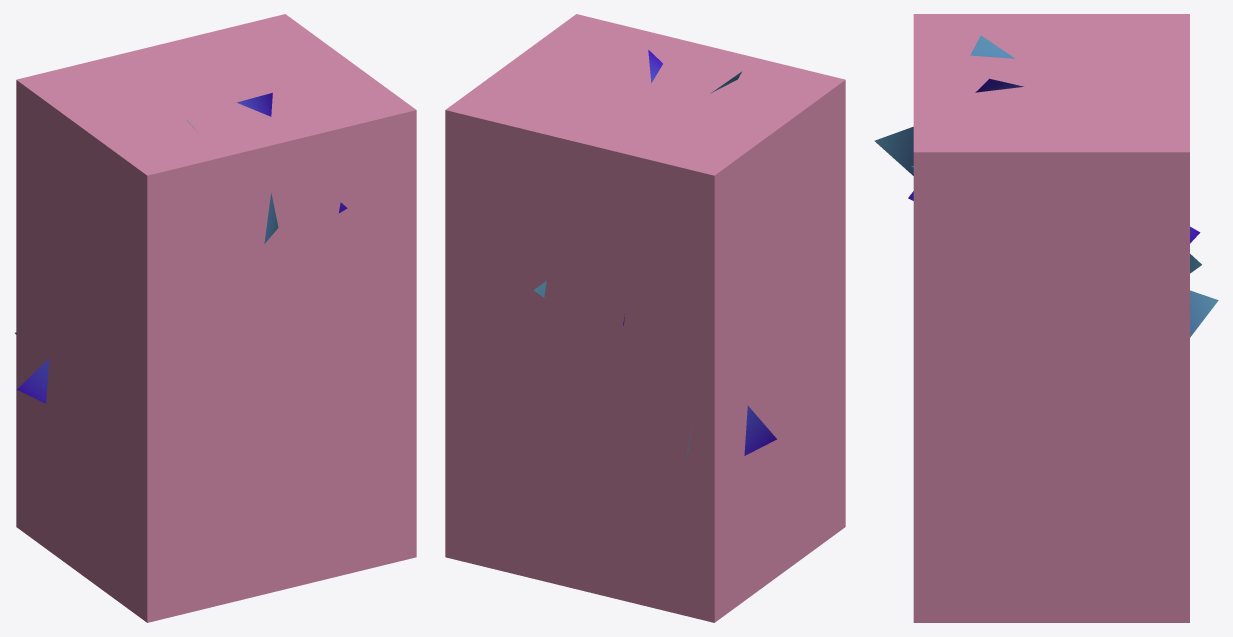
File: tree_aspen_small_a.dae
3 renders of one model, left to right at view 1: azimuth 30°, elevation 25°; view 2: azimuth 150°, elevation 25°; view 3: azimuth 270°, elevation 25°, orthographic. The views are drawn at different scales.
Parts seen in each view (by area): view 1: Untitled, tree_oak_bush_a250; view 2: Untitled, tree_oak_bush_a250; view 3: Untitled, tree_oak_bush_a250.
Boxes of the visible parts, x1,y1,x2,y2 form: Untitled: [16, 14, 416, 622]; tree_oak_bush_a250: [15, 92, 347, 403]; Untitled: [445, 14, 845, 622]; tree_oak_bush_a250: [534, 50, 776, 459]; Untitled: [913, 14, 1189, 622]; tree_oak_bush_a250: [874, 35, 1218, 337].
Size of the model in its own units: 4.59 by 4.33 by 6.78.
